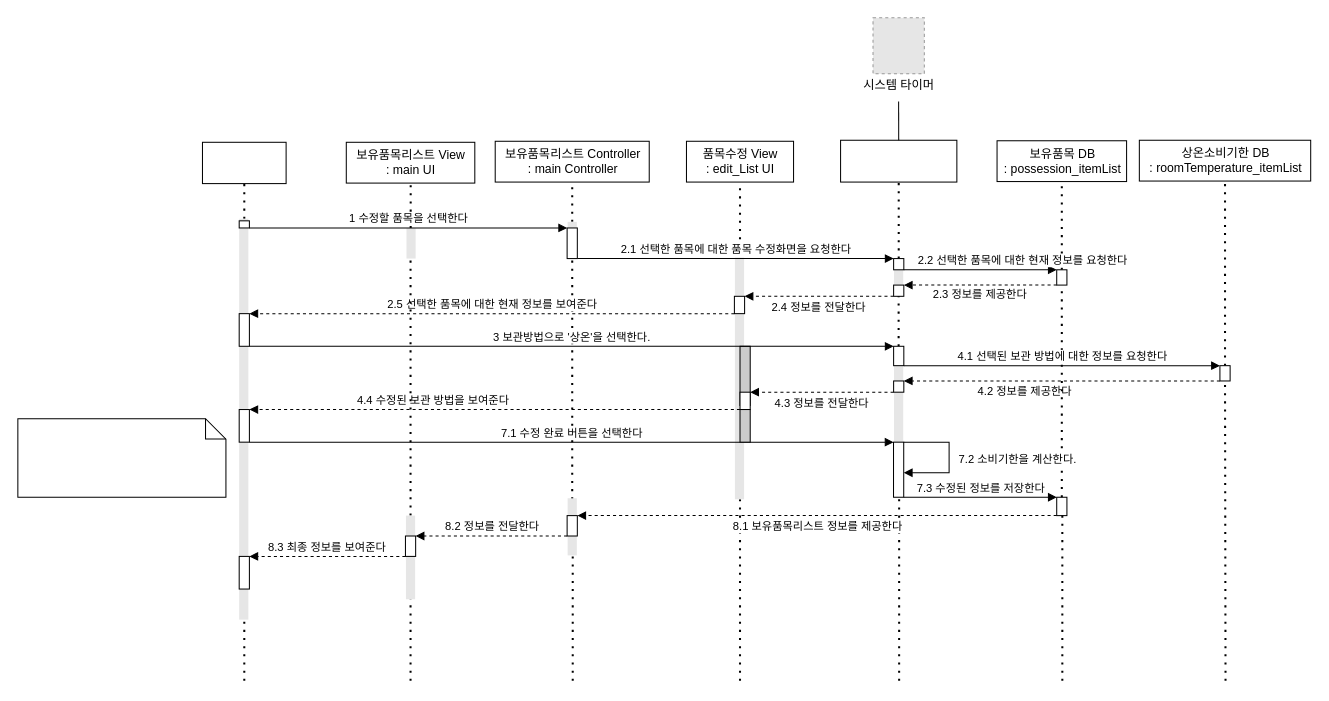
Some shapes in this 1329 by 701 pixel diagram are drawn without their labels. Grey dashed boxes stand in for pictures. The centre of each missing label's shape, as x and y in pixels:
"7A. 사용자가 취소버튼을 누를 경우, 시스템이 '수정을 취소하시겠습니까?' 라는 팝업창을 보여준다" belongs at pixel 121 457.
"USER" belongs at pixel 243 162.
"품목수정 Controller : edit_List Controller" belongs at pixel 898 160.
